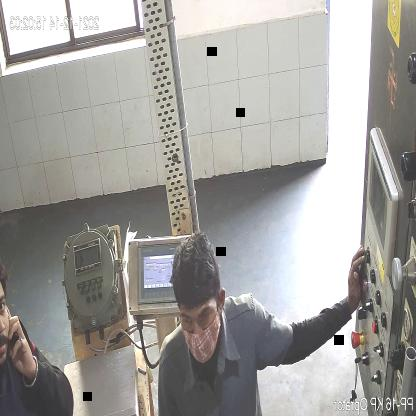no_goggles: (180, 301, 218, 333)
